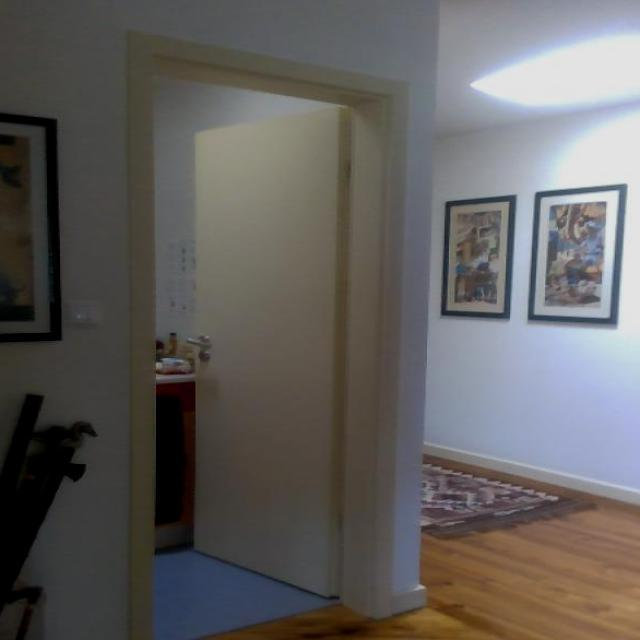door: (191, 105, 344, 599)
